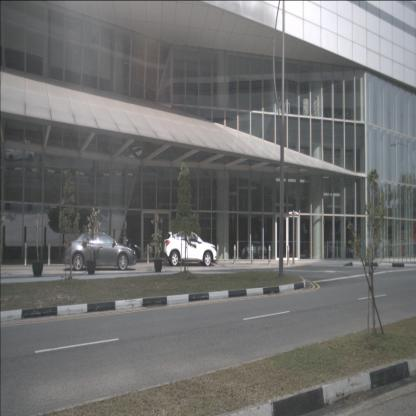vehicle-car: (62, 231, 137, 271), (163, 231, 217, 266)
